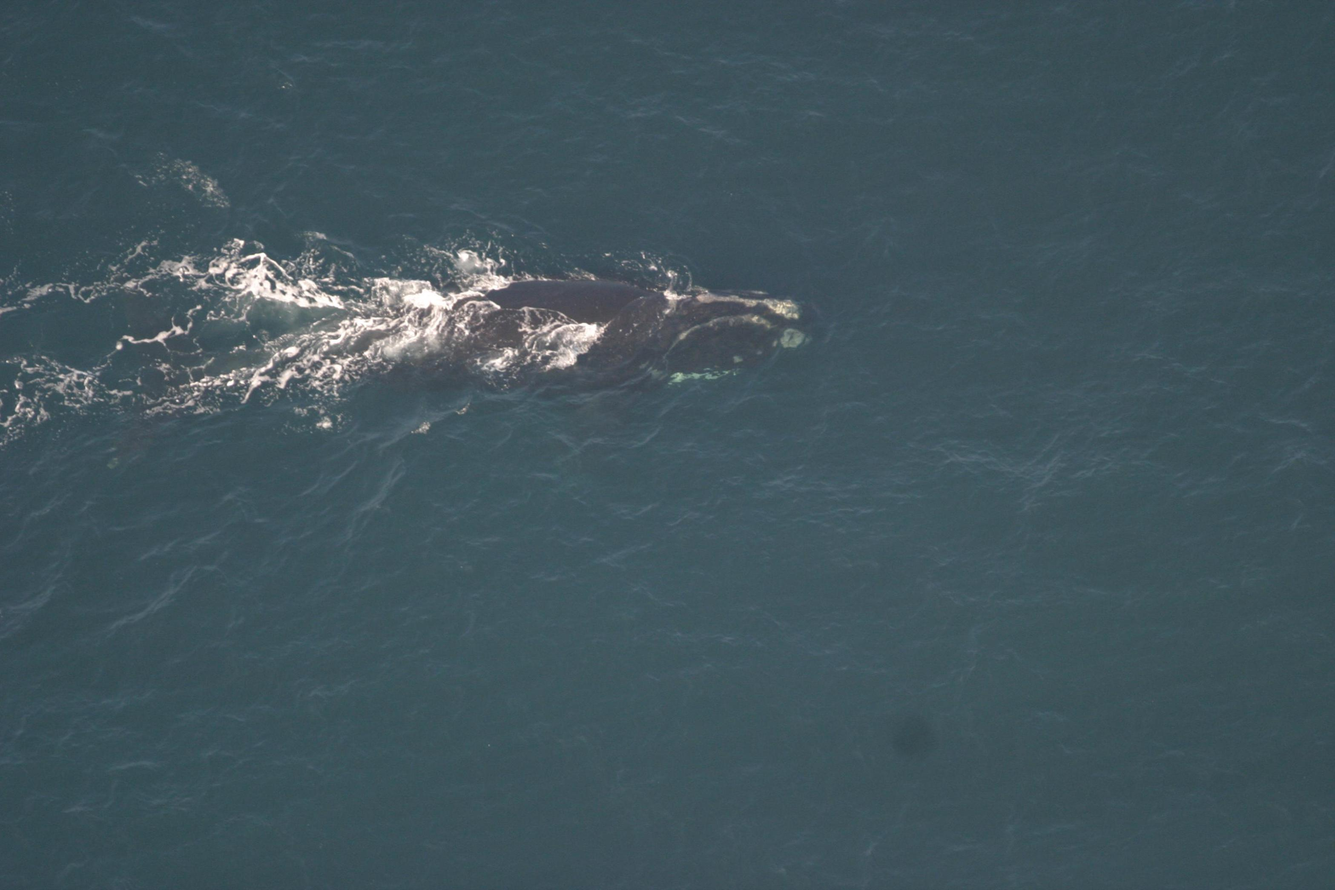whale: (0, 267, 818, 490)
